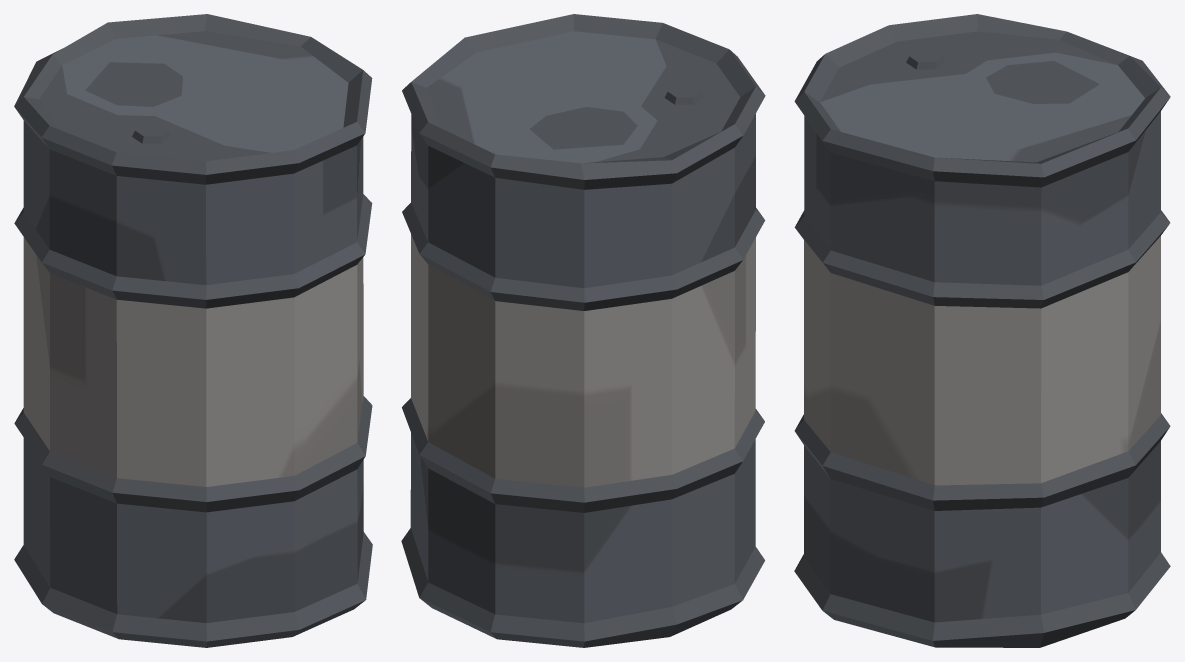
File: SM_Prop_Barrel_02_604.obj
The picture shows the model from 3 angles, left to right: view 1: azimuth 30°, elevation 25°; view 2: azimuth 150°, elevation 25°; view 3: azimuth 270°, elevation 25°; orthographic projection.
Visible parts, largest first — view 1: SM_Prop_Barrel_02_0; view 2: SM_Prop_Barrel_02_0; view 3: SM_Prop_Barrel_02_0.
Boxes of the visible parts, x1,y1,x2,y2 form: SM_Prop_Barrel_02_0: [14, 14, 372, 647]; SM_Prop_Barrel_02_0: [401, 14, 765, 647]; SM_Prop_Barrel_02_0: [794, 14, 1170, 647].
Size of the model in its own units: 0.6949 by 1.05 by 0.7261.
1 material, 1 textured.
